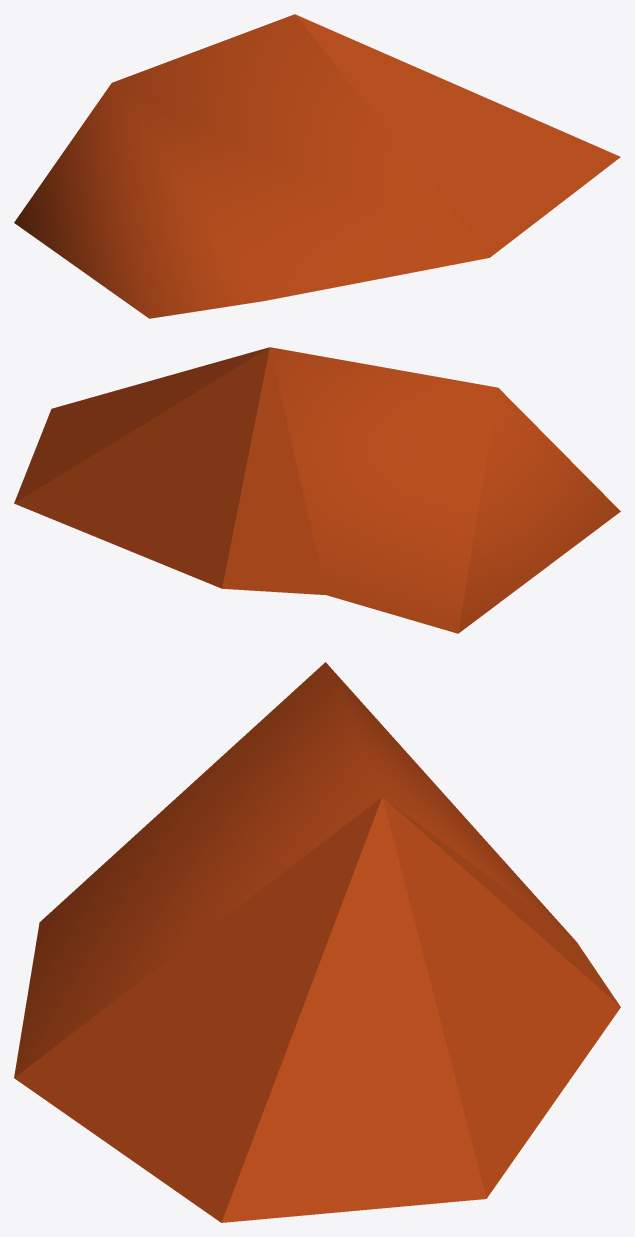
Rendered from Hill_desert_002.glb.
The picture shows the model from 3 angles, top to bottom: view 1: azimuth 30°, elevation 25°; view 2: azimuth 150°, elevation 25°; view 3: azimuth 270°, elevation 25°; orthographic projection. The views are drawn at different scales.
Visible parts, largest first — view 1: Hill_desert_002; view 2: Hill_desert_002; view 3: Hill_desert_002.
Part boxes in pixels (bbox=[...]): Hill_desert_002: bbox=[14, 14, 620, 318]; Hill_desert_002: bbox=[14, 347, 620, 633]; Hill_desert_002: bbox=[14, 662, 620, 1222].
Bounding box in the file's own units: 41.37 × 14.43 × 29.68.
1 material, 1 textured.
